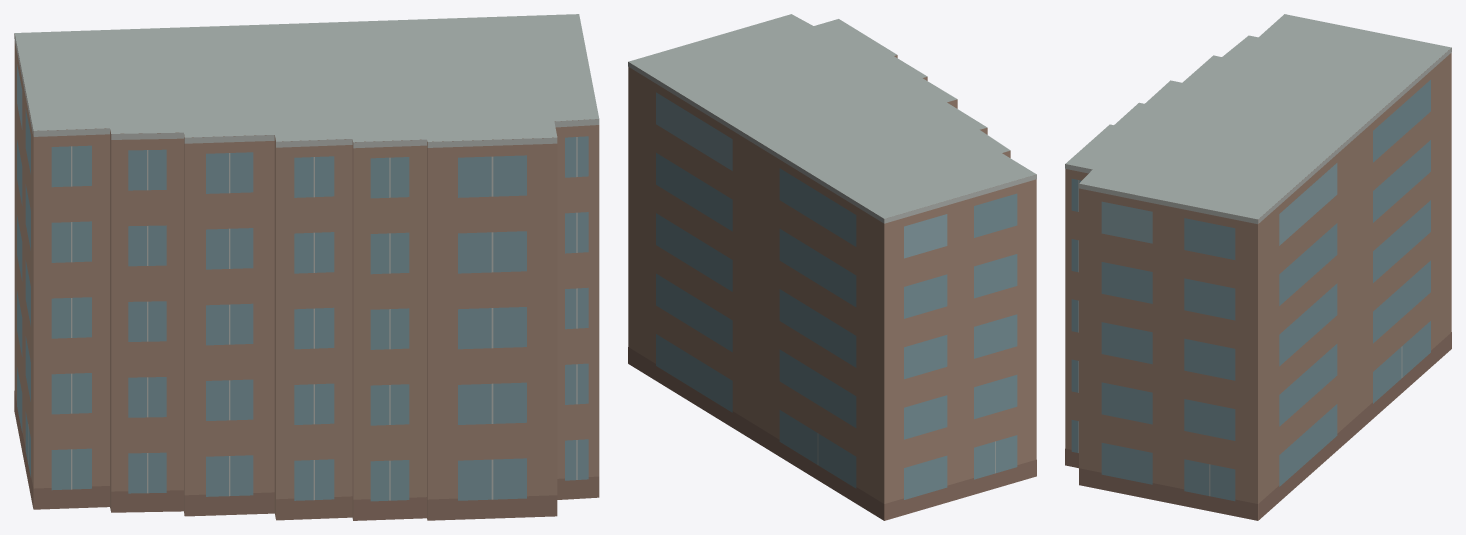
Rendered from survey-upis-32897749.glb.
The picture shows the model from 3 angles, left to right: view 1: azimuth 30°, elevation 25°; view 2: azimuth 150°, elevation 25°; view 3: azimuth 270°, elevation 25°; orthographic projection. The views are drawn at different scales.
Visible parts, largest first — view 1: survey-upis-32897749.tmp; view 2: survey-upis-32897749.tmp; view 3: survey-upis-32897749.tmp.
Boxes of the visible parts, x1,y1,x2,y2 form: survey-upis-32897749.tmp: [14, 14, 599, 520]; survey-upis-32897749.tmp: [628, 14, 1036, 520]; survey-upis-32897749.tmp: [1065, 14, 1451, 520].
Size of the model in its own units: 22.3 by 15.25 by 17.74.
